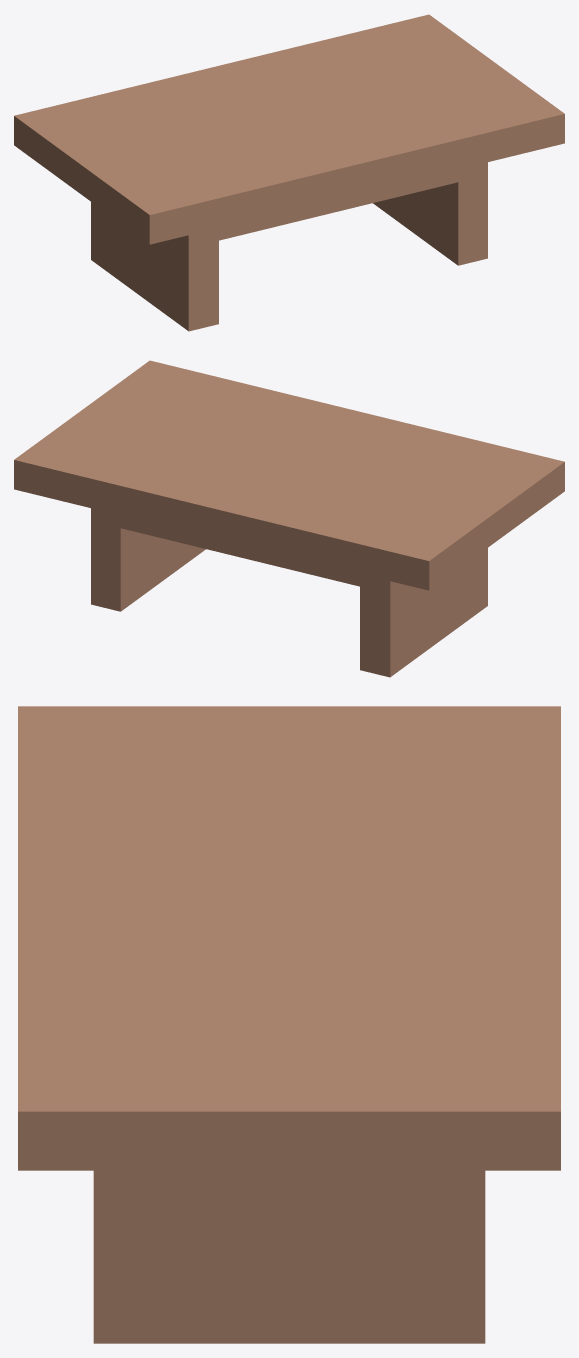
Rendered from Table.fbx.
The picture shows the model from 3 angles, top to bottom: view 1: azimuth 30°, elevation 25°; view 2: azimuth 150°, elevation 25°; view 3: azimuth 270°, elevation 25°; orthographic projection. The views are drawn at different scales.
Visible parts, largest first — view 1: polySurface4; view 2: polySurface4; view 3: polySurface4.
Boxes of the visible parts, x1=… form: polySurface4: x1=14, y1=14, x2=564, y2=331; polySurface4: x1=14, y1=360, x2=564, y2=677; polySurface4: x1=18, y1=706, x2=560, y2=1343.
Size of the model in its own units: 416 by 138 by 236.
